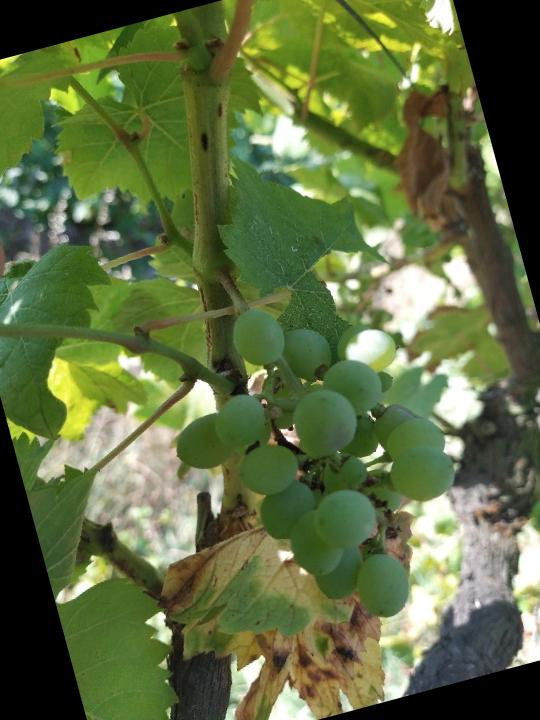grape: (142, 261, 492, 664)
